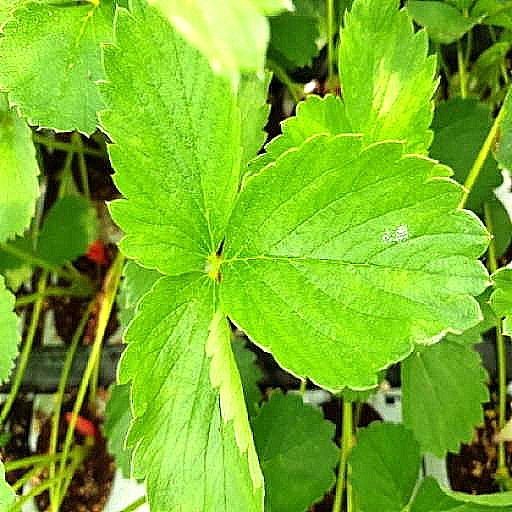Powdery Mildew Leaf: (218, 131, 496, 394)
